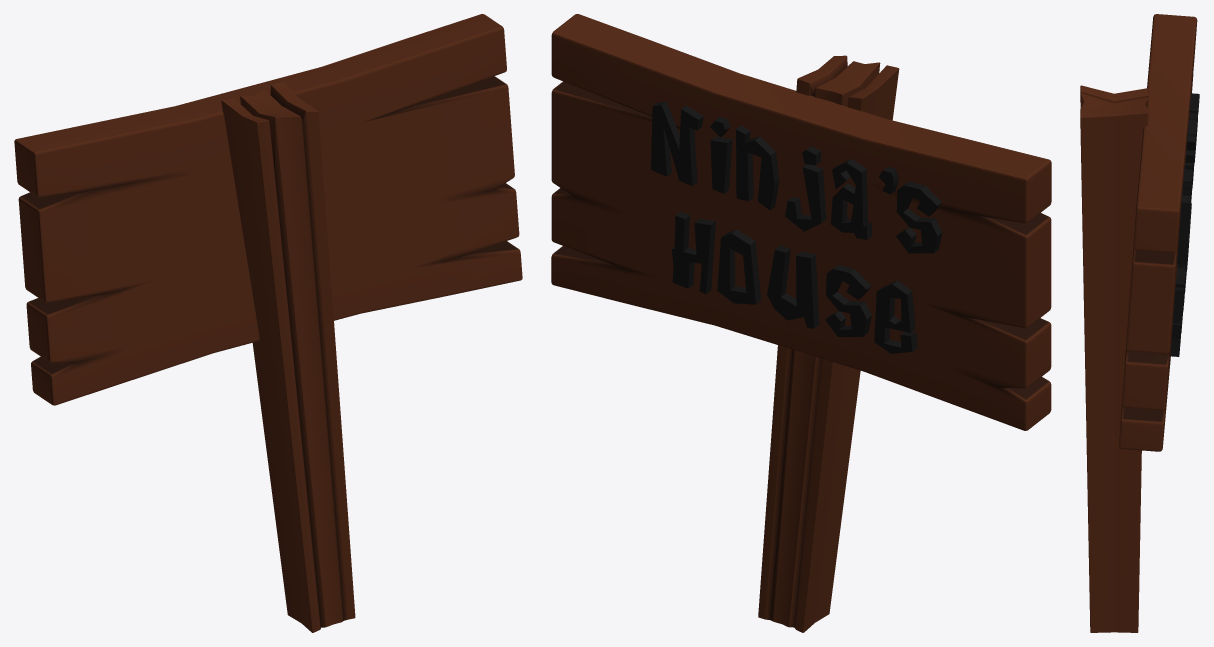
The model's file is Sns Ninja sign.fbx.
3 renders of one model, left to right at view 1: azimuth 30°, elevation 25°; view 2: azimuth 150°, elevation 25°; view 3: azimuth 270°, elevation 25°, orthographic. The views are drawn at different scales.
Parts seen in each view (by area): view 1: polySurface9; view 2: polySurface9; view 3: polySurface9.
Boxes of the visible parts, x1,y1,x2,y2 form: polySurface9: (14, 14, 522, 632); polySurface9: (551, 14, 1051, 632); polySurface9: (1080, 14, 1199, 632).
Bounding box in the file's own units: 538 × 584 × 124.
